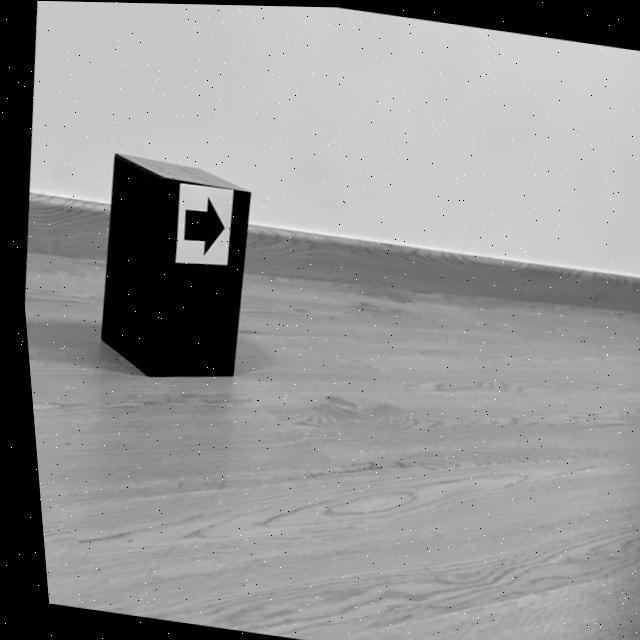RIGHT: (179, 197, 220, 253)
